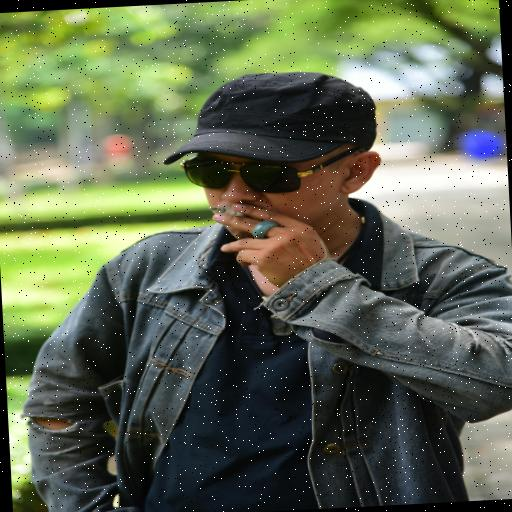terdeteksi merokok: (192, 149, 302, 258)
